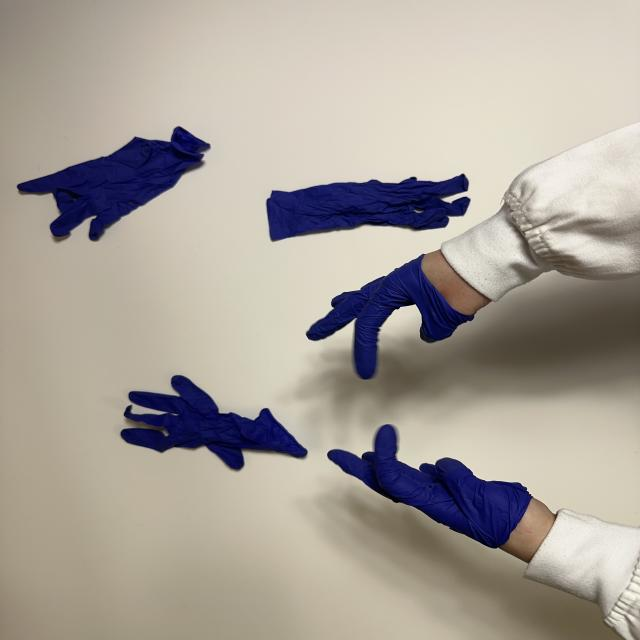glove_not_fitted: (324, 420, 560, 563), (307, 250, 503, 379)
